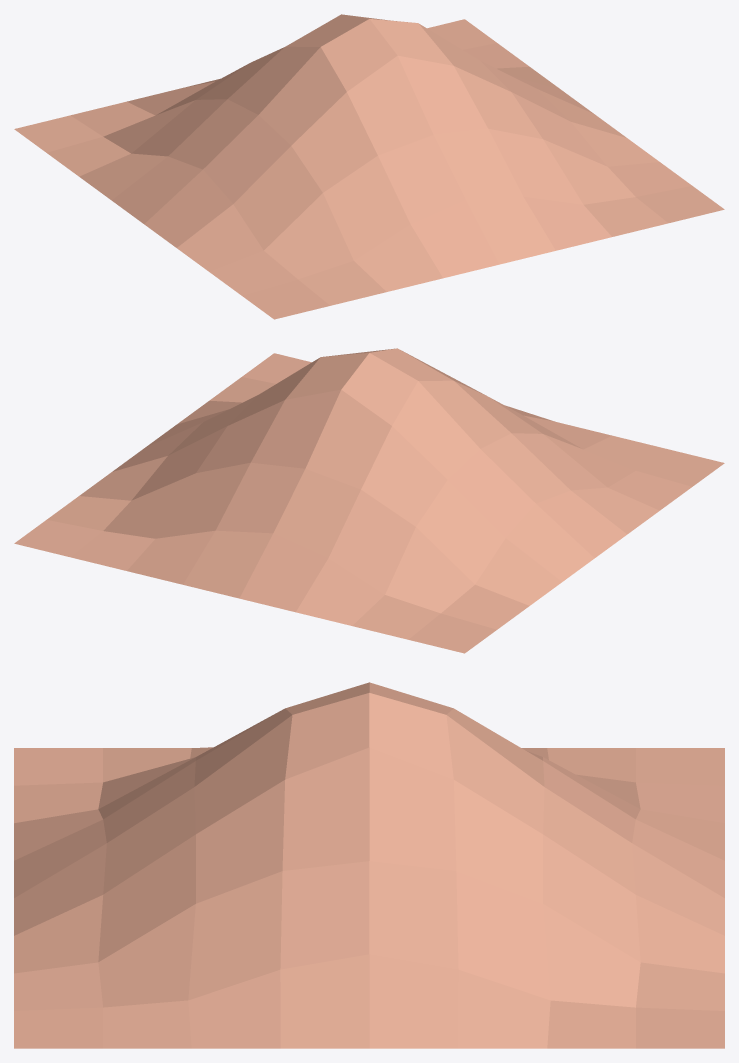
The model's file is mountain.glb.
3 renders of one model, top to bottom at view 1: azimuth 30°, elevation 25°; view 2: azimuth 150°, elevation 25°; view 3: azimuth 270°, elevation 25°, orthographic. The views are drawn at different scales.
Parts seen in each view (by area): view 1: Plane; view 2: Plane; view 3: Plane.
Boxes of the visible parts, left/top/right/bottom form: Plane: left=14, top=14, right=724, bottom=319; Plane: left=14, top=348, right=724, bottom=653; Plane: left=14, top=682, right=724, bottom=1048.
Size of the model in its own units: 2.04 by 0.6506 by 2.04.
